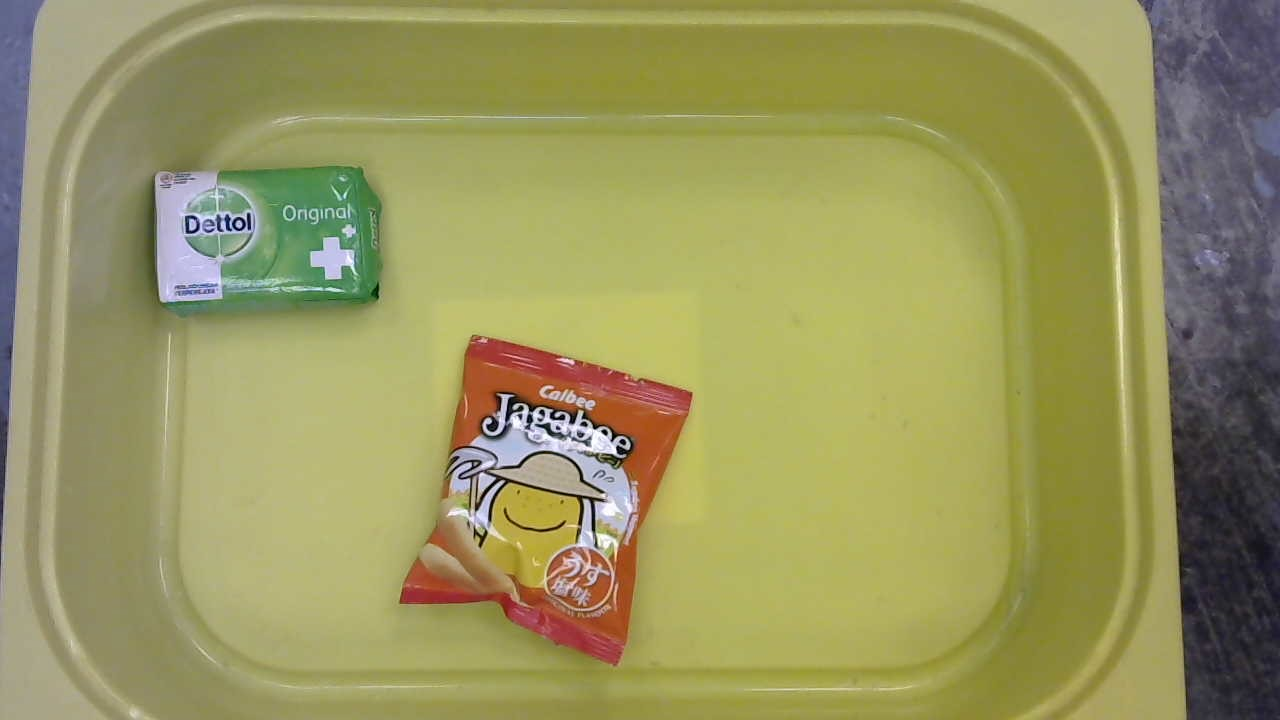Dettol: (145, 165, 388, 320)
JagabeeFarmer: (392, 327, 698, 670)
